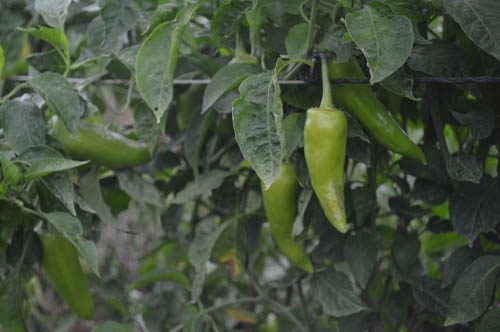ChiliPepper: (328, 59, 432, 161), (301, 109, 350, 236), (44, 113, 150, 168), (261, 164, 312, 273), (38, 229, 93, 318)
